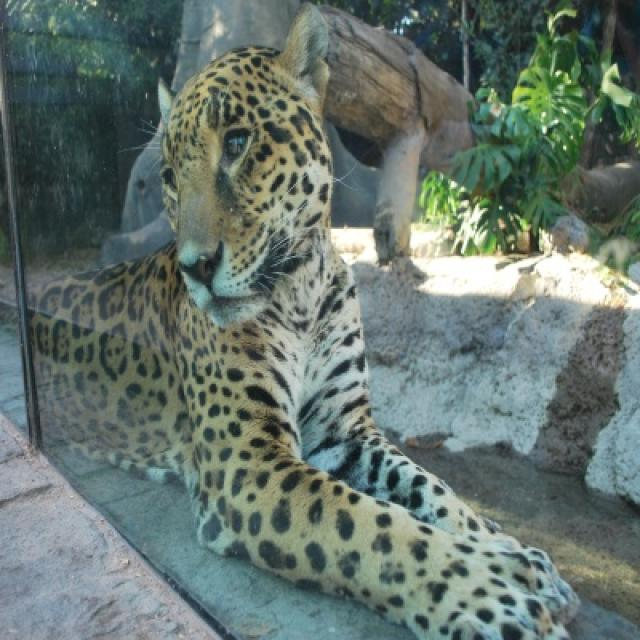Jaguar: (18, 11, 580, 638)
